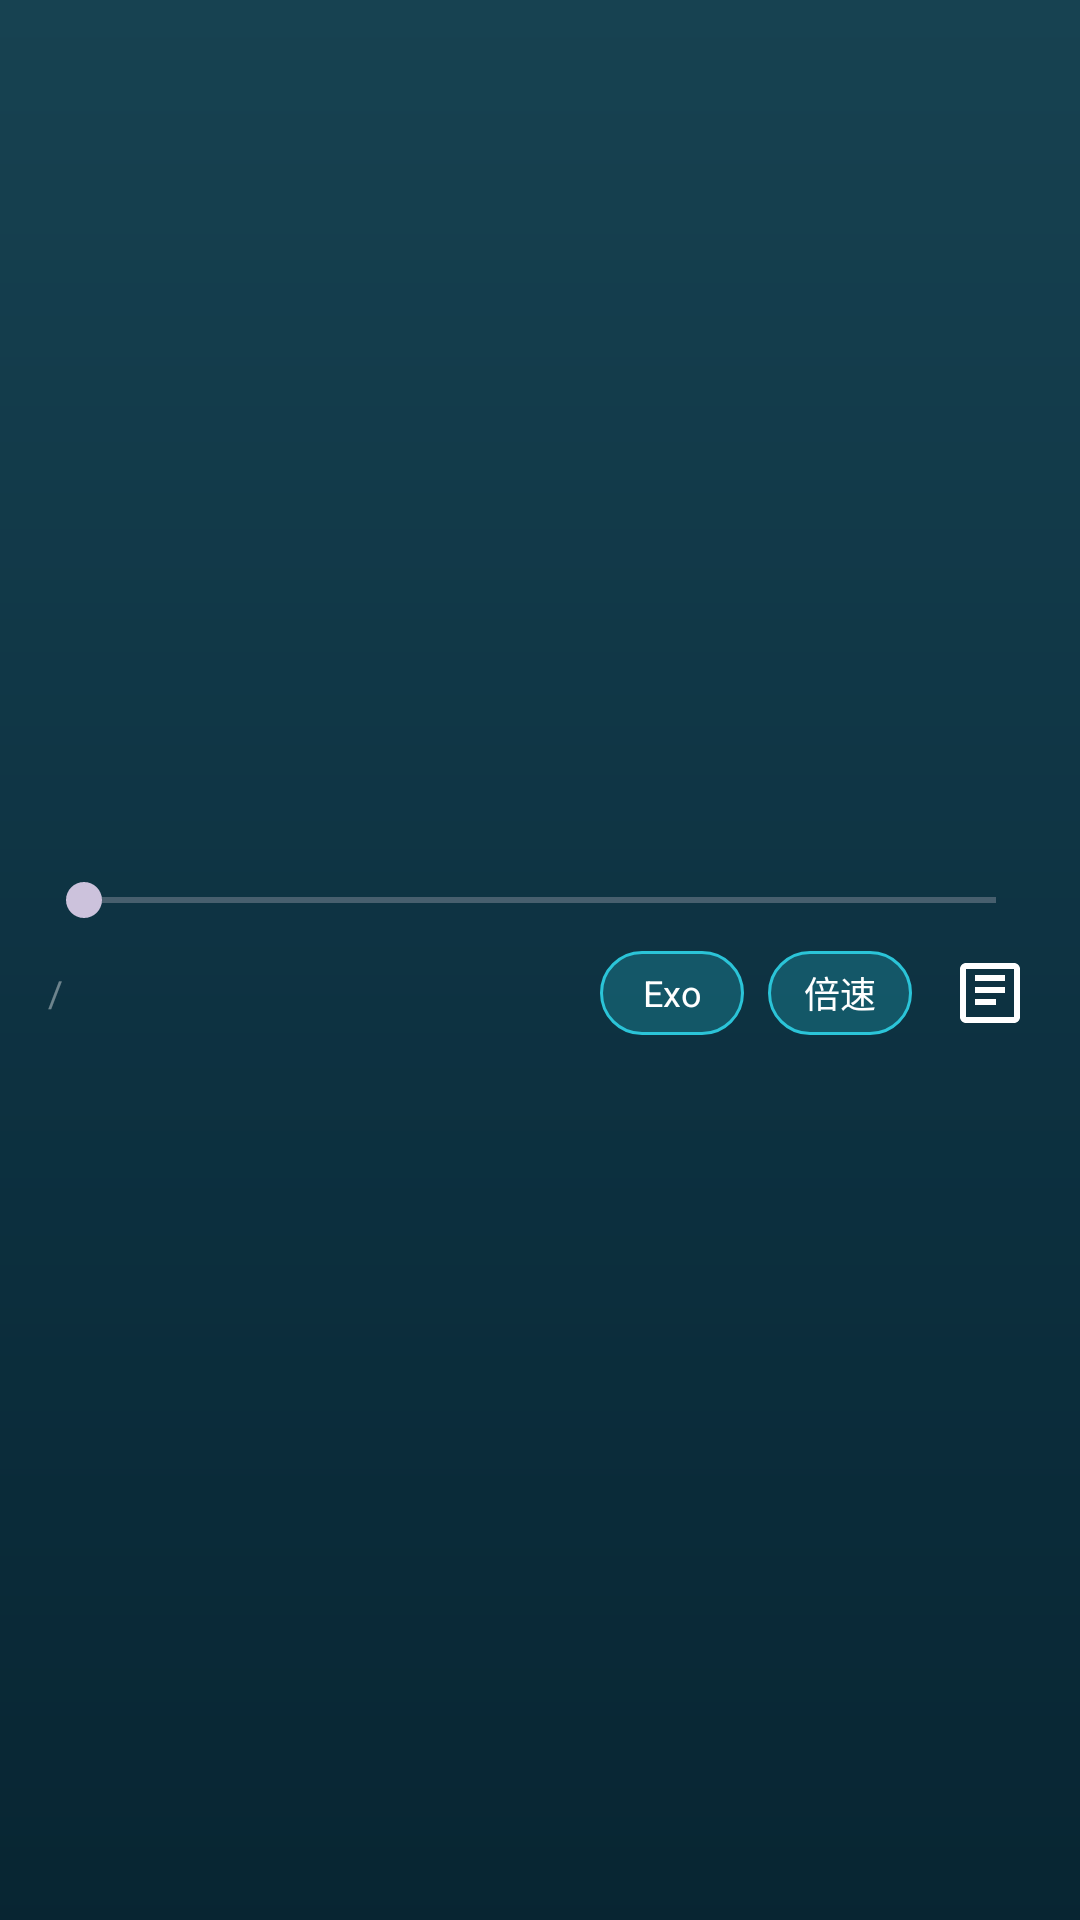

Point at icon controls on the screen. Image size 1080px×1920px, points as (x=x, y=y).
选集: (x=990, y=993)
